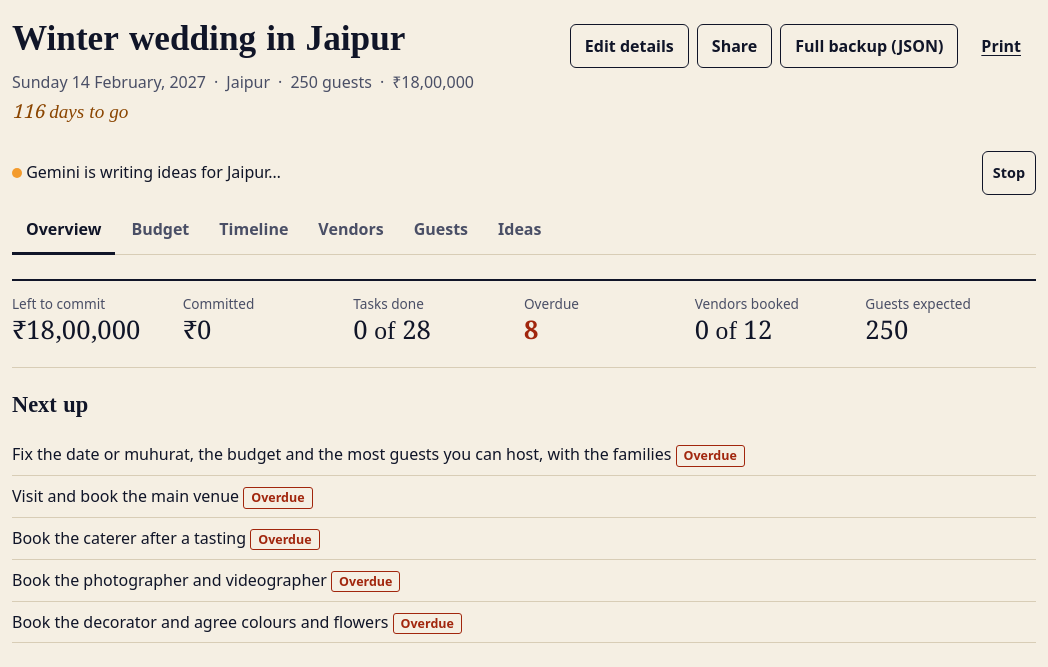
Test: AI ideas stream › shows progress and can be stopped, then tried again
Check: the text "Gemini is writing ideas for Jaipur…" is shown, box [12,160,281,185]
Click the button "Stop".
click(1009, 173)  # box [982,151,1036,195]
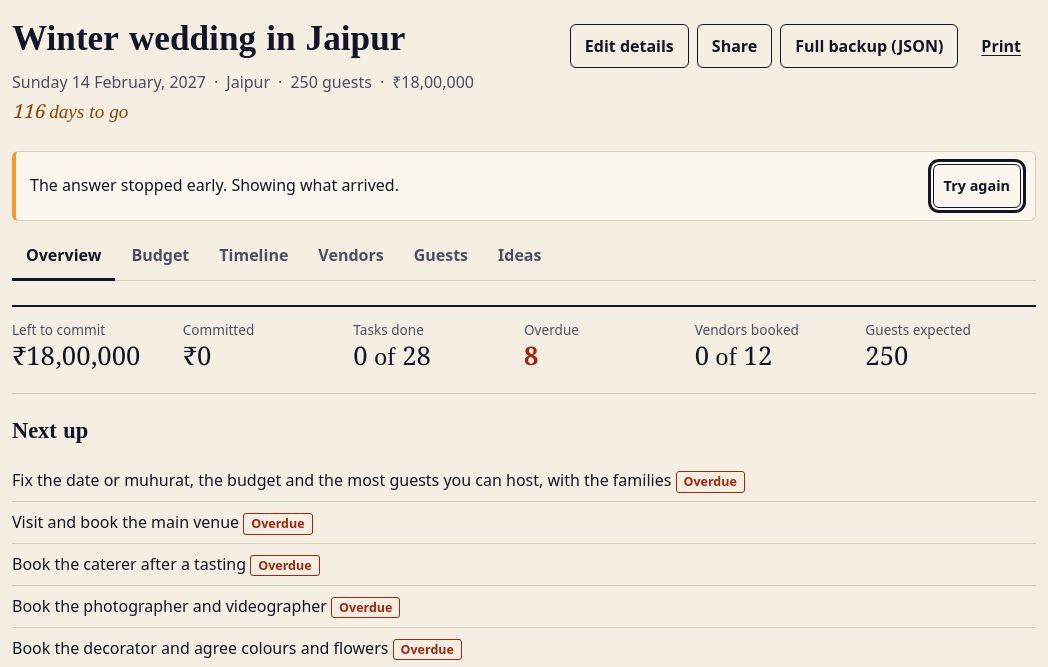
Check: the text "Gemini is writing ideas for Jaipur…" is gone
Click the button "Try again".
click(977, 186)  # box [933,164,1021,208]
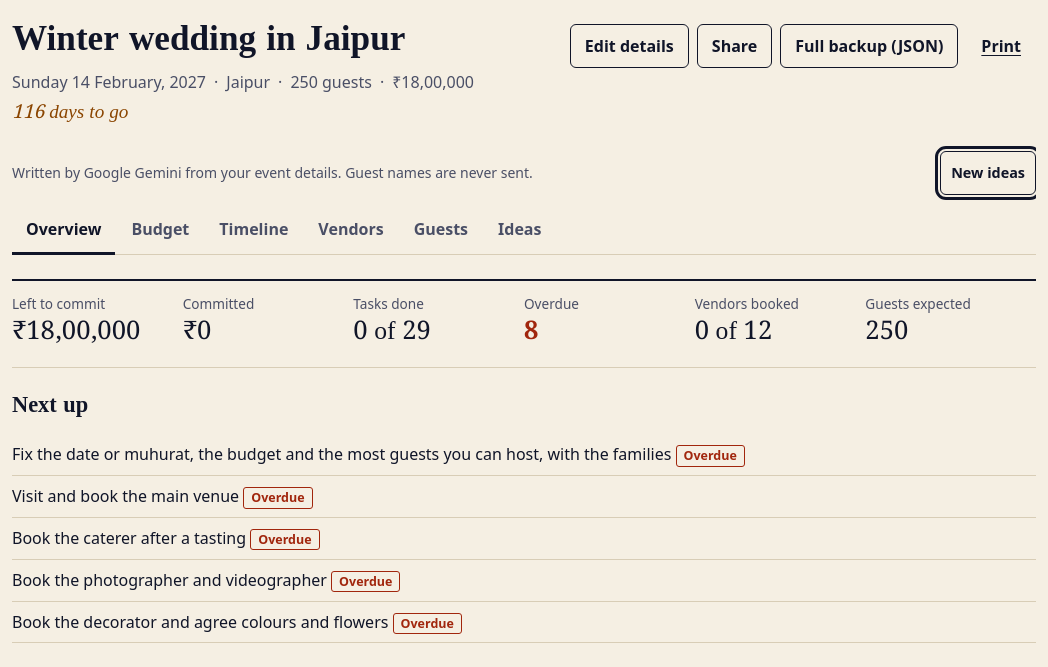
Click the tab "Ideas".
click(520, 231)  # box [484,207,556,255]
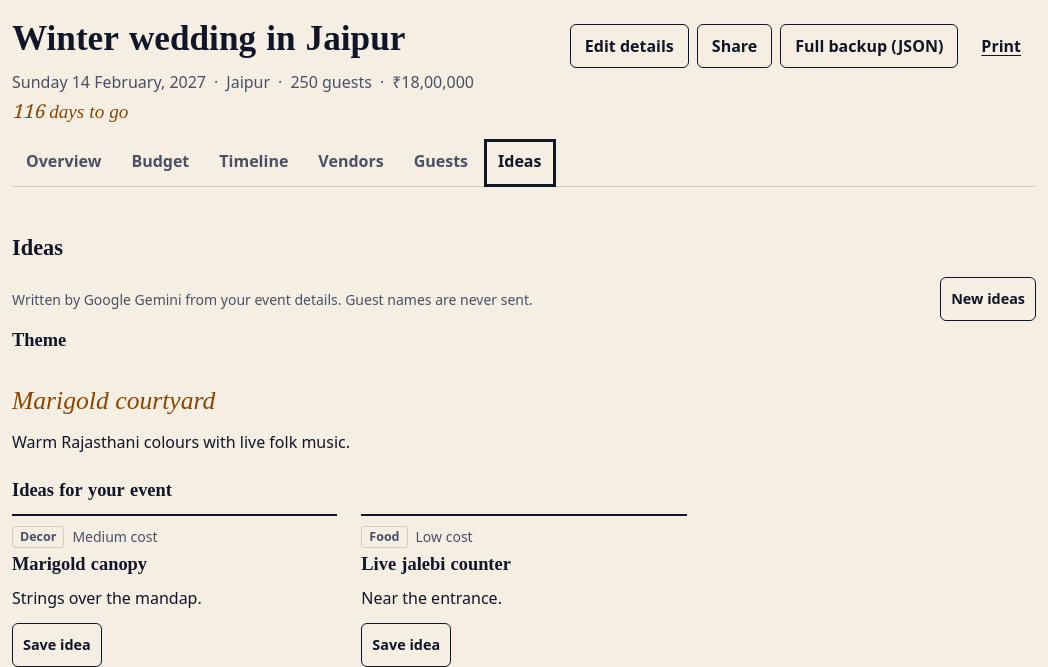
Check: the text "Marigold canopy" is shown, box [12,553,147,582]
